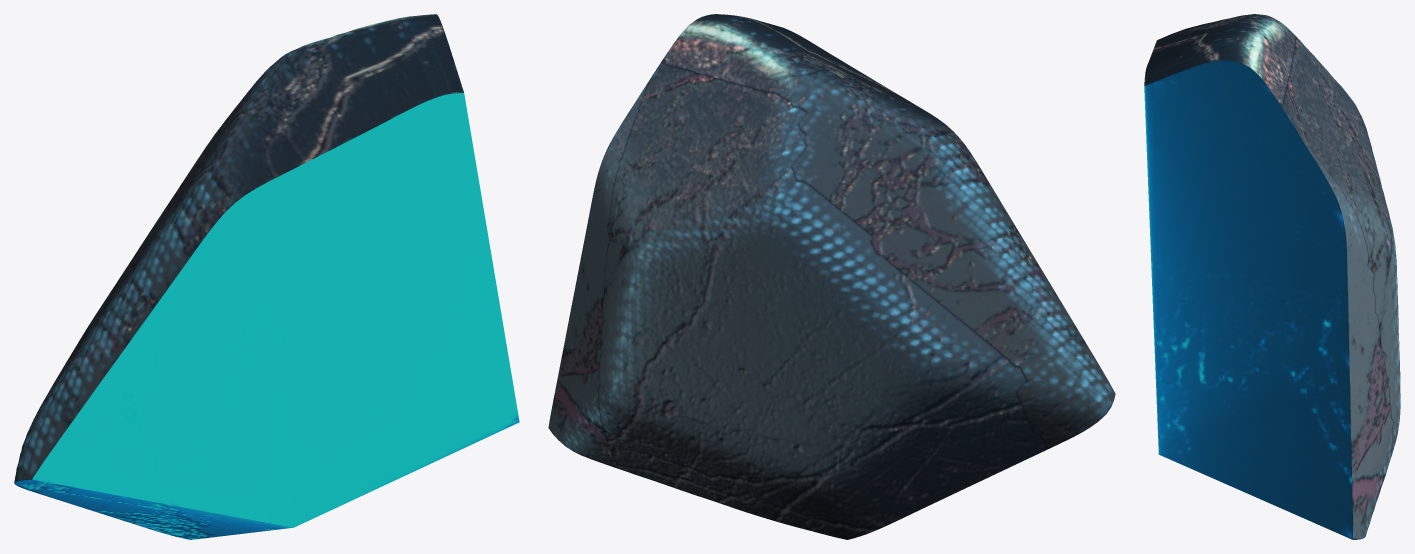
File: rock_02_Alta.glb
The picture shows the model from 3 angles, left to right: view 1: azimuth 30°, elevation 25°; view 2: azimuth 150°, elevation 25°; view 3: azimuth 270°, elevation 25°; orthographic projection. The views are drawn at different scales.
Visible parts, largest first — view 1: VolumeFBXASC032Mesher_fracturepart2; view 2: VolumeFBXASC032Mesher_fracturepart2; view 3: VolumeFBXASC032Mesher_fracturepart2.
Boxes of the visible parts, bbox=[...] form: VolumeFBXASC032Mesher_fracturepart2: bbox=[14, 14, 519, 539]; VolumeFBXASC032Mesher_fracturepart2: bbox=[548, 14, 1115, 539]; VolumeFBXASC032Mesher_fracturepart2: bbox=[1144, 14, 1400, 539].
Bounding box in the file's own units: 1.18 × 1.04 × 0.4939.
1 material, 1 textured.
